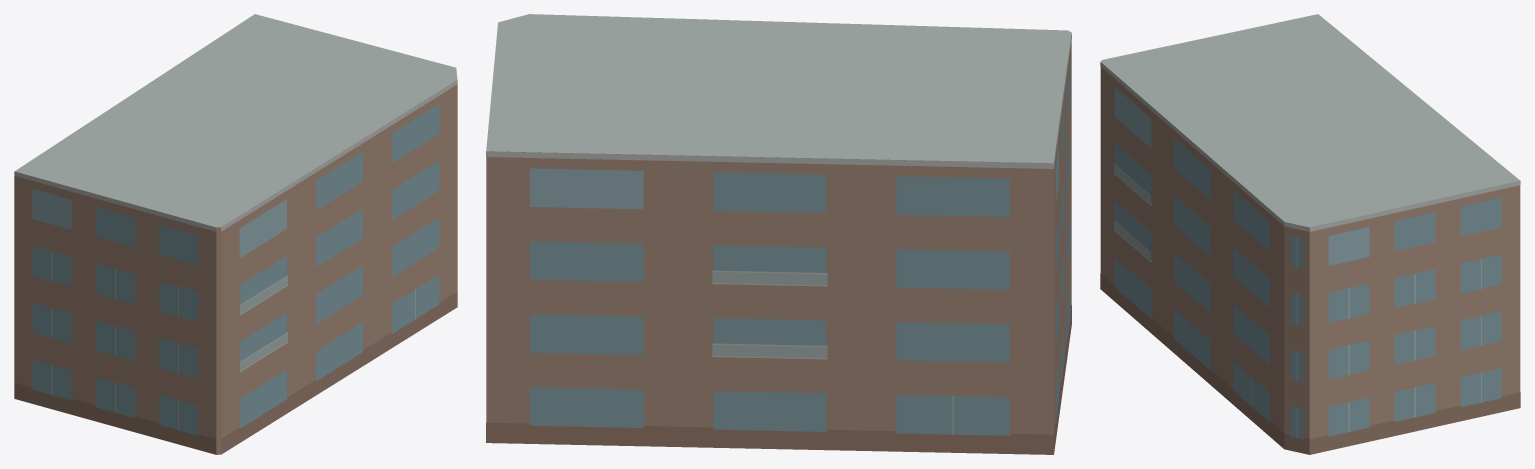
Rendered from survey-upis-32739130.glb.
3 views of the same model, side by side, from view 1: azimuth 30°, elevation 25°; view 2: azimuth 150°, elevation 25°; view 3: azimuth 270°, elevation 25° (orthographic). The views are drawn at different scales.
Parts seen in each view (by area): view 1: survey-upis-32739130.tmp; view 2: survey-upis-32739130.tmp; view 3: survey-upis-32739130.tmp.
Boxes of the visible parts, bbox=[...] form: survey-upis-32739130.tmp: bbox=[14, 14, 457, 454]; survey-upis-32739130.tmp: bbox=[486, 14, 1071, 454]; survey-upis-32739130.tmp: bbox=[1100, 14, 1520, 454].
Size of the model in its own units: 24.98 by 12.4 by 20.77.
